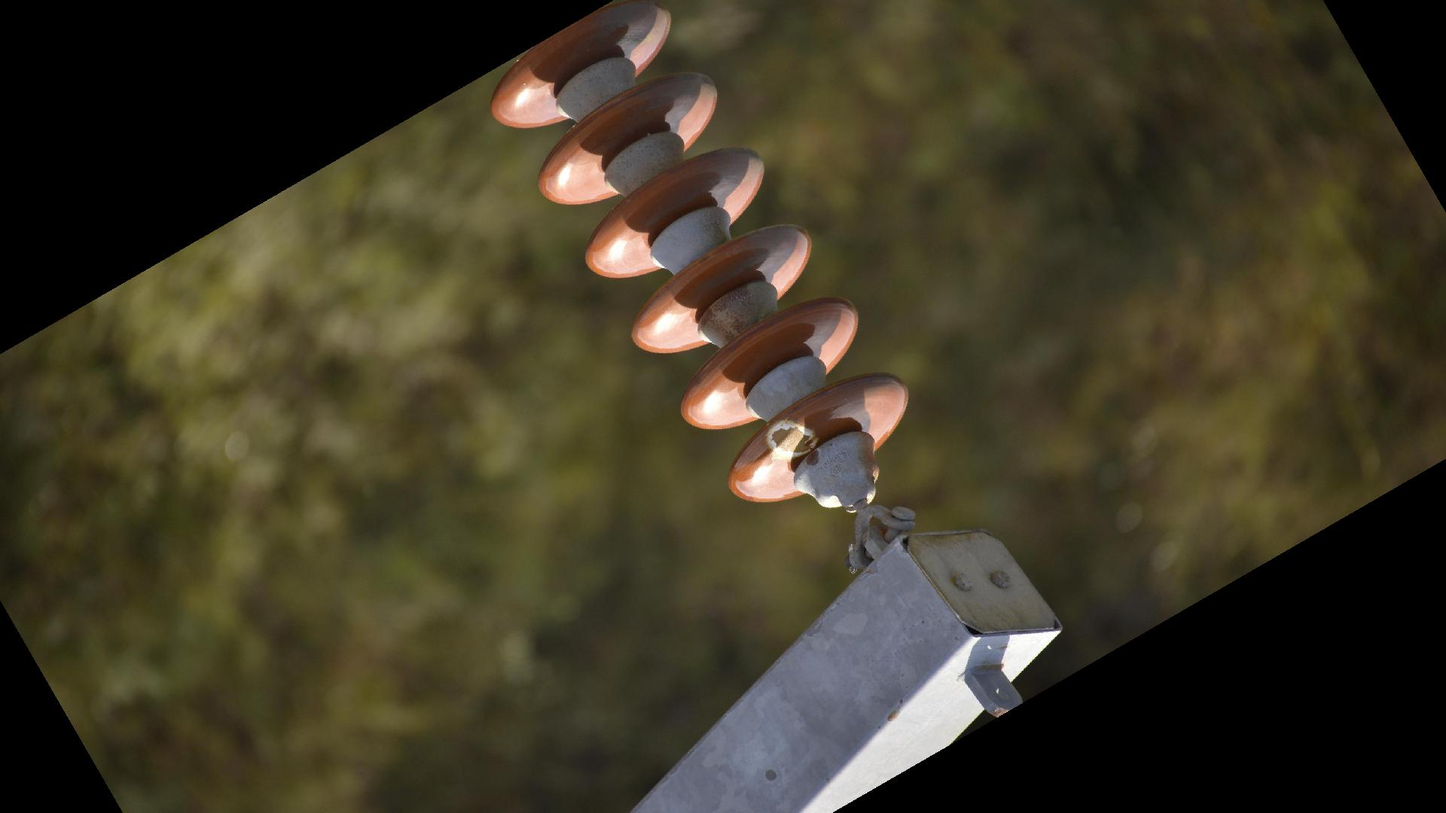insulator: (484, 1, 919, 512)
insulator_flashover: (766, 420, 814, 464)
